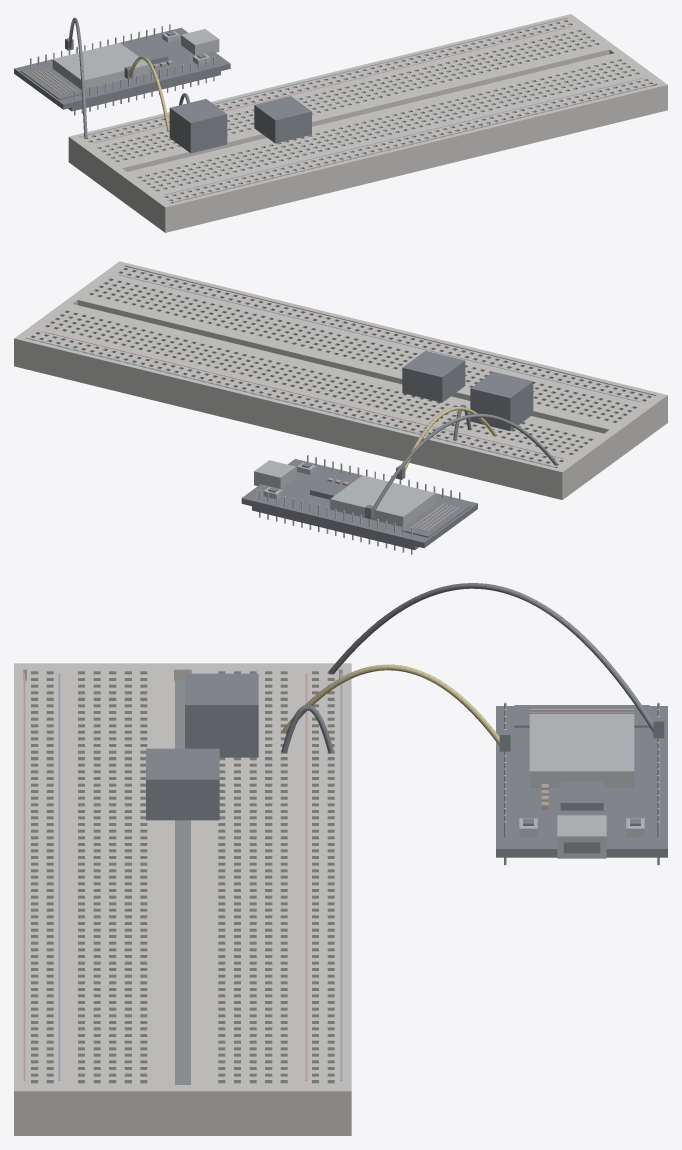
The model's file is step-7.glb.
3 renders of one model, top to bottom at view 1: azimuth 30°, elevation 25°; view 2: azimuth 150°, elevation 25°; view 3: azimuth 270°, elevation 25°, orthographic. The views are drawn at different scales.
Parts seen in each view (by area): view 1: breadboard__mesh, uno__mesh, piezo__mesh, button__mesh, ground_supply__mesh, piezo_signal__mesh; view 2: breadboard__mesh, uno__mesh, piezo__mesh, button__mesh, ground_supply__mesh, piezo_signal__mesh; view 3: breadboard__mesh, uno__mesh, piezo__mesh, button__mesh, ground_supply__mesh, piezo_signal__mesh.
Part boxes in pixels (bbox=[...]): breadboard__mesh: bbox=[68, 14, 667, 232]; uno__mesh: bbox=[14, 24, 230, 115]; piezo__mesh: bbox=[169, 99, 227, 153]; button__mesh: bbox=[254, 96, 311, 143]; ground_supply__mesh: bbox=[65, 17, 87, 138]; piezo_signal__mesh: bbox=[124, 56, 169, 131]; breadboard__mesh: bbox=[14, 261, 667, 499]; uno__mesh: bbox=[241, 455, 477, 554]; piezo__mesh: bbox=[470, 371, 533, 430]; button__mesh: bbox=[402, 351, 465, 402]; ground_supply__mesh: bbox=[365, 414, 557, 518]; piezo_signal__mesh: bbox=[396, 406, 496, 479]; breadboard__mesh: bbox=[14, 663, 351, 1135]; uno__mesh: bbox=[496, 702, 667, 865]; piezo__mesh: bbox=[185, 673, 258, 757]; button__mesh: bbox=[146, 748, 219, 820]; ground_supply__mesh: bbox=[328, 583, 664, 738]; piezo_signal__mesh: bbox=[282, 664, 510, 751].
Bounding box in the file's own units: 0.165 × 0.0297 × 0.1065.
